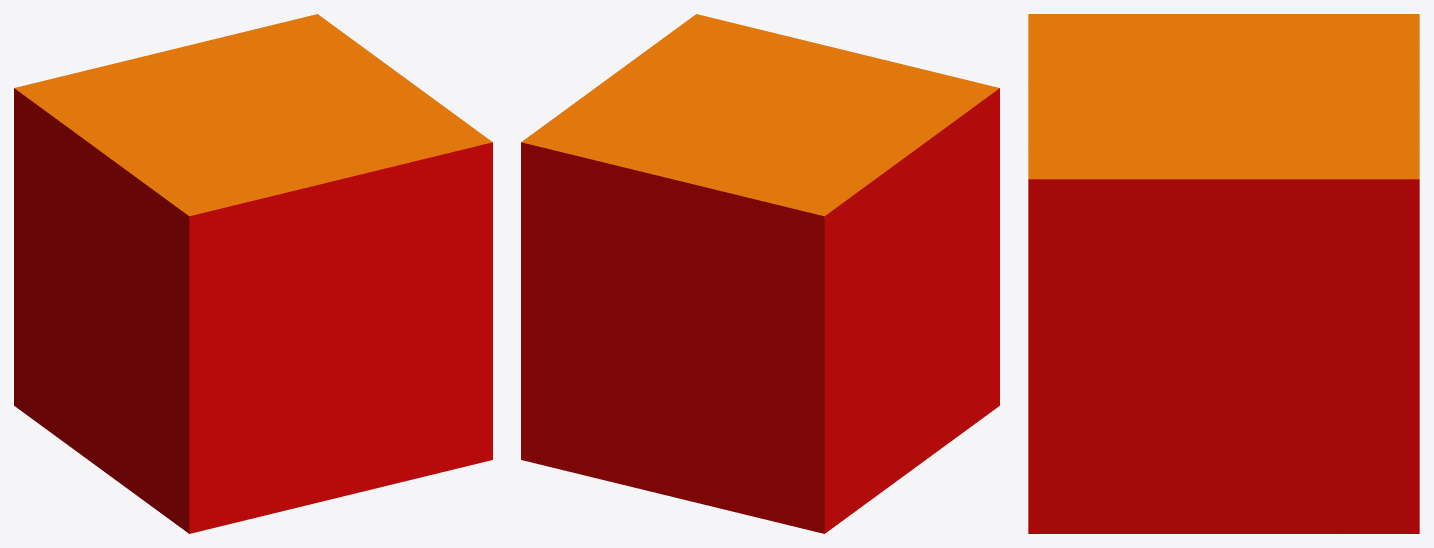
3 views of the same model, side by side, from view 1: azimuth 30°, elevation 25°; view 2: azimuth 150°, elevation 25°; view 3: azimuth 270°, elevation 25° (orthographic). The views are drawn at different scales.
Parts seen in each view (by area): view 1: 큐브; view 2: 큐브; view 3: 큐브.
Boxes of the visible parts, bbox=[...] form: 큐브: bbox=[14, 14, 492, 533]; 큐브: bbox=[521, 14, 999, 533]; 큐브: bbox=[1028, 14, 1419, 533].
Size of the model in its own units: 1.6 by 1.6 by 1.6.
Materials: 1 (1 with a texture image).
